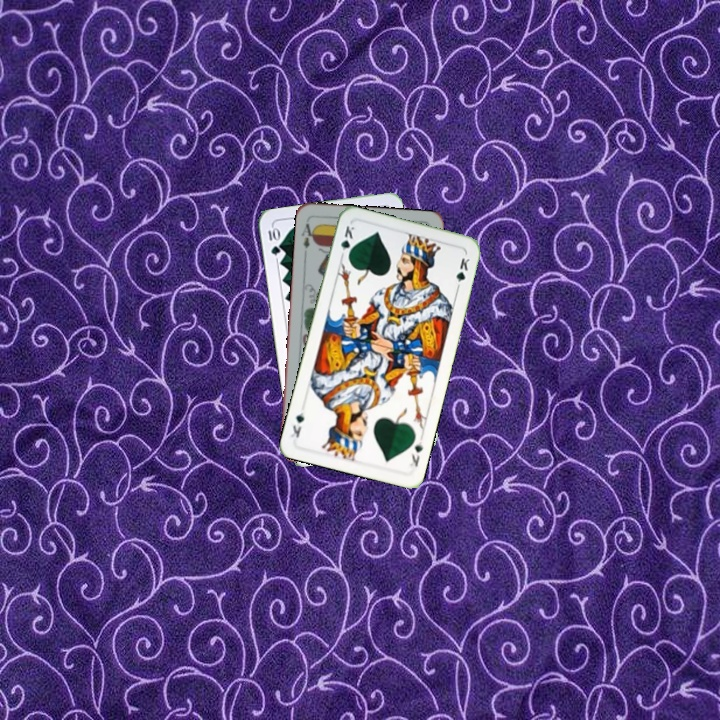EA: (298, 219, 318, 251)
G10: (264, 223, 283, 258)
GK: (337, 221, 358, 261), (405, 437, 425, 469)
